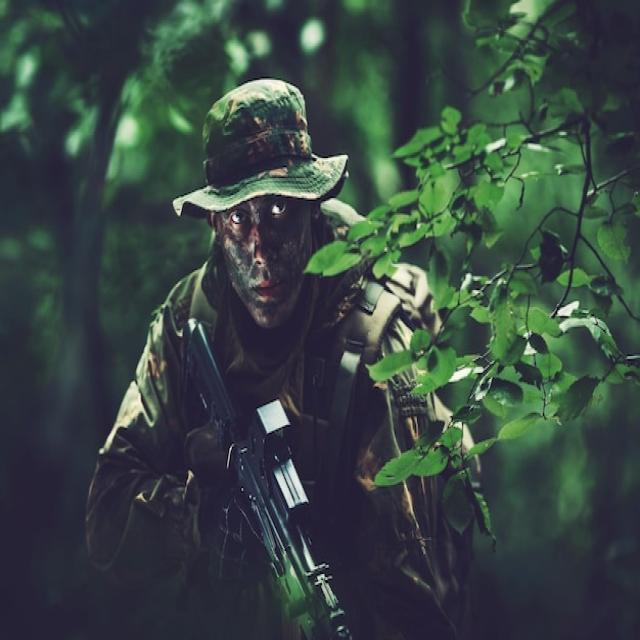Forest: (0, 0, 640, 640)
Militant: (115, 59, 478, 640)
